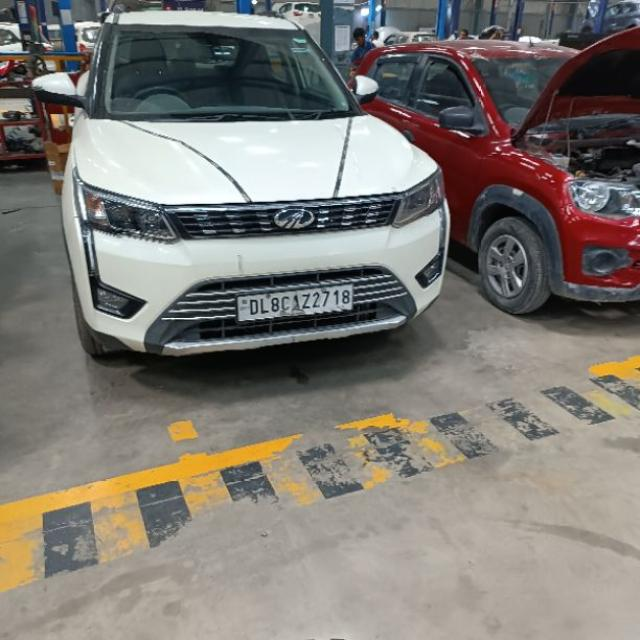license_plate: (234, 280, 355, 323)
